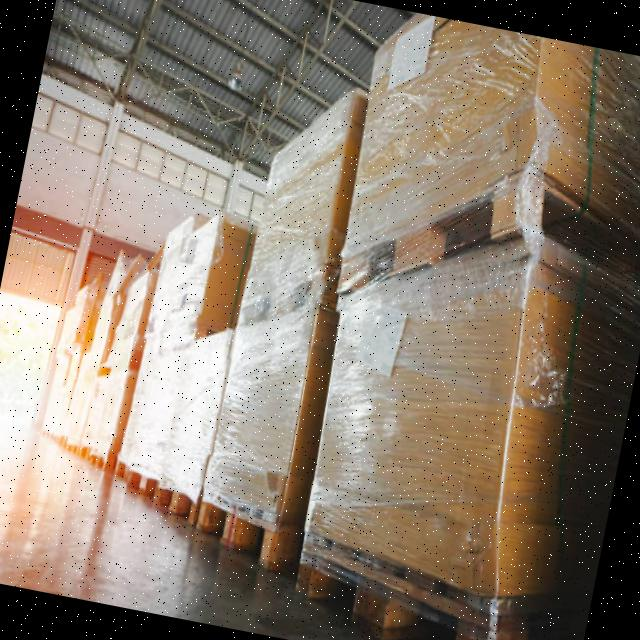Wooden-Pallets: (72, 442, 497, 640), (281, 524, 504, 640), (188, 486, 286, 579), (145, 477, 199, 531)
